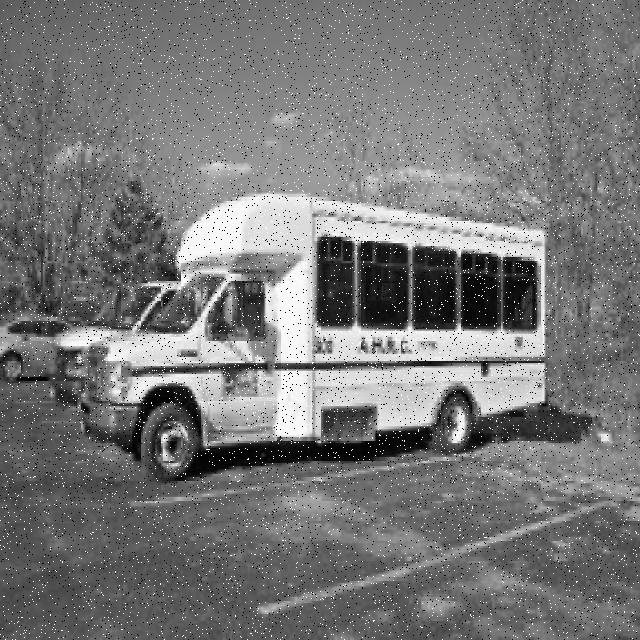Bus- Small: (77, 195, 547, 484)
